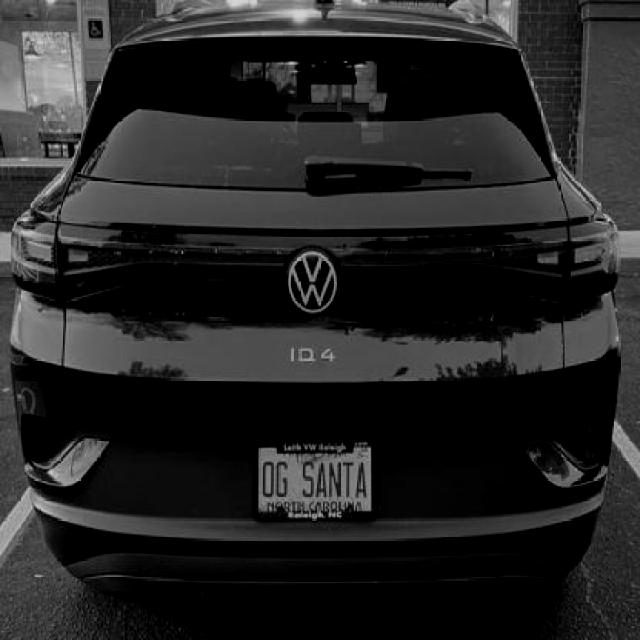licenseplate: (252, 438, 376, 521)
